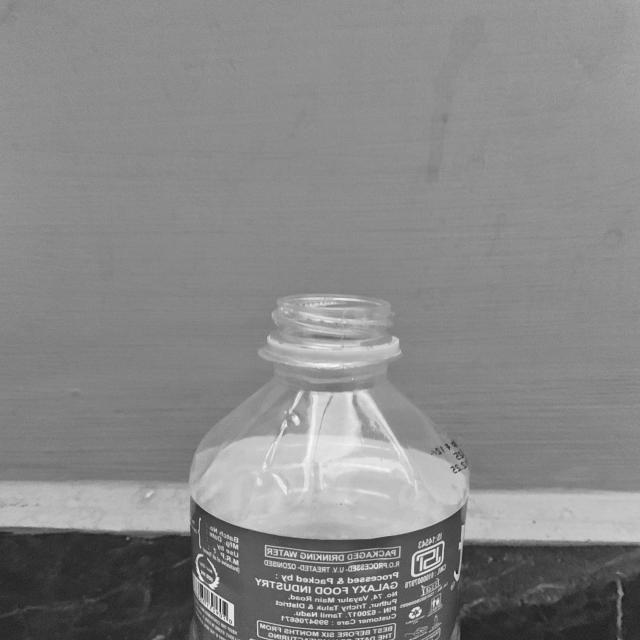open-cap: (263, 295, 402, 360)
